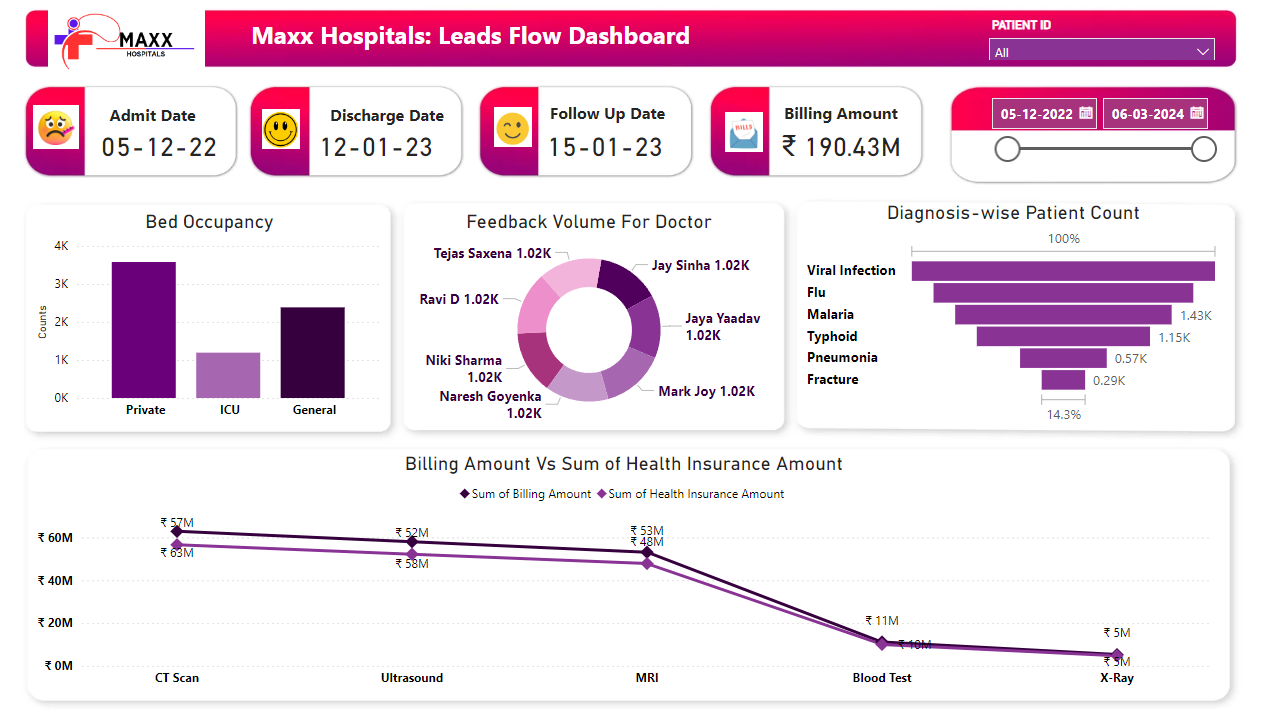

What the dashboard file says about the page in this screenshot:
{"tool":"powerbi","page":{"name":"Page 1","canvas":[1280,720],"ordinal":0},"visuals":[{"type":"slicer","fields":{"Values":["Sheet1.Patient_ID"]},"box":[988,18,246,47],"z":0},{"type":"card","fields":{"Values":["Sheet1.Admit_Date"]},"box":[100,127,136,46],"z":1000},{"type":"card","fields":{"Values":["Sheet1.Discharge_Date"]},"box":[317,127,136,46],"z":2000},{"type":"card","fields":{"Values":["Sheet1.Followup Date"]},"box":[546,127,136,46],"z":3000},{"type":"card","fields":{"Values":["Sheet1.Billing Amount"]},"box":[782,127,136,46],"z":4000},{"type":"textbox","box":[100,104,123,37],"z":5000},{"type":"textbox","box":[325,104,142,37],"z":6000},{"type":"textbox","box":[788,102,130,39],"z":7000},{"type":"textbox","box":[546,102,141,35],"z":8000},{"type":"columnChart","title":"Bed Occupancy","fields":{"Category":["Sheet1.Bed_Occupancy"],"Y":["Sheet1.Bed_Occupancy"]},"box":[41,215,355,218],"z":9000},{"type":"donutChart","title":"Feedback Volume For Doctor","fields":{"Category":["Sheet1.Doctor"],"Y":["Sheet1.Feedback"]},"box":[408,215,380,218],"z":9001},{"type":"funnel","title":"Diagnosis-wise Patient Count","fields":{"Category":["Sheet1.Diagnosis"],"Y":["Sheet1.Diagnosis"]},"box":[811,206,423,227],"z":9002},{"type":"lineChart","title":"Billing Amount Vs Sum of Health Insurance Amount","fields":{"Y":["Sheet1.Billing Amount","Sheet1.Health Insurance Amount"],"Category":["Sheet1.Test"]},"box":[41,457,1184,244],"z":9003},{"type":"slicer","fields":{"Values":["Sheet1.Admit_Date"]},"box":[988,93,246,88],"z":9005},{"type":"textbox","box":[236,18,487,47],"z":9006},{"type":"image","box":[35,2,201,80],"z":9007},{"type":"image","box":[723,112,59,50],"z":9008},{"type":"image","box":[498,105,48,54],"z":9009},{"type":"image","box":[35,105,59,54],"z":9010},{"type":"image","box":[262,109,55,50],"z":9011}]}

Visuals, with their boxes in screenshot pixels (x1, y1, x2, y2), scaled from the page's 1280x720 canvas onto the 1267x710 screenshot:
slicer - Sheet1.Patient_ID: left=978, top=18, right=1221, bottom=64
card - Sheet1.Admit_Date: left=99, top=125, right=234, bottom=171
card - Sheet1.Discharge_Date: left=314, top=125, right=448, bottom=171
card - Sheet1.Followup Date: left=540, top=125, right=675, bottom=171
card - Sheet1.Billing Amount: left=774, top=125, right=909, bottom=171
textbox: left=99, top=103, right=221, bottom=139
textbox: left=322, top=103, right=462, bottom=139
textbox: left=780, top=101, right=909, bottom=139
textbox: left=540, top=101, right=680, bottom=135
"Bed Occupancy" columnChart: left=41, top=212, right=392, bottom=427
"Feedback Volume For Doctor" donutChart: left=404, top=212, right=780, bottom=427
"Diagnosis-wise Patient Count" funnel: left=803, top=203, right=1221, bottom=427
"Billing Amount Vs Sum of Health Insurance Amount" lineChart: left=41, top=451, right=1213, bottom=691
slicer - Sheet1.Admit_Date: left=978, top=92, right=1221, bottom=178
textbox: left=234, top=18, right=716, bottom=64
image: left=35, top=2, right=234, bottom=81
image: left=716, top=110, right=774, bottom=160
image: left=493, top=104, right=540, bottom=157
image: left=35, top=104, right=93, bottom=157
image: left=259, top=107, right=314, bottom=157
